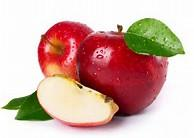apple: (32, 21, 123, 127), (22, 20, 102, 83)
